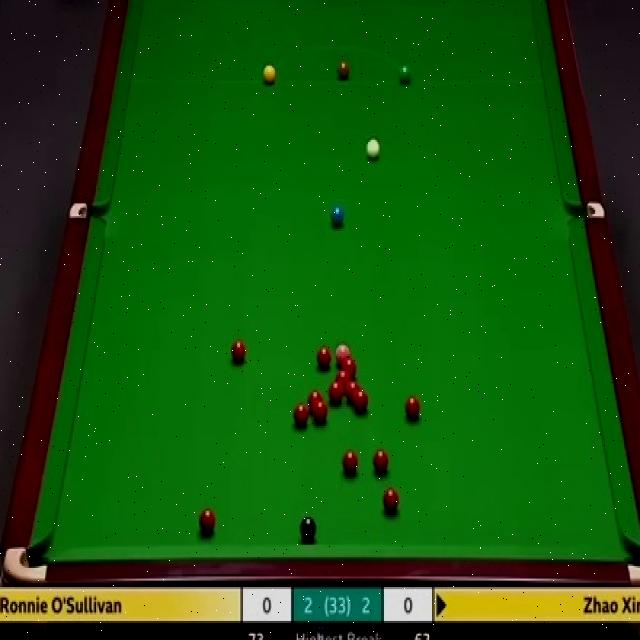black-ball: (298, 513, 317, 539)
blue-ball: (330, 207, 345, 224)
brown-ball: (338, 61, 350, 80)
green-ball: (397, 62, 413, 85)
pink-ball: (331, 345, 349, 360)
red-ball: (199, 509, 215, 538), (404, 392, 420, 420), (229, 338, 246, 364), (313, 397, 329, 422), (344, 452, 359, 478), (328, 381, 344, 405), (382, 486, 396, 513), (352, 388, 368, 411), (372, 448, 387, 471), (294, 406, 309, 426), (345, 377, 359, 398), (334, 369, 349, 388), (341, 358, 356, 376), (318, 346, 330, 368)
white-ball: (366, 137, 380, 158)
yellow-ball: (263, 64, 276, 85)
